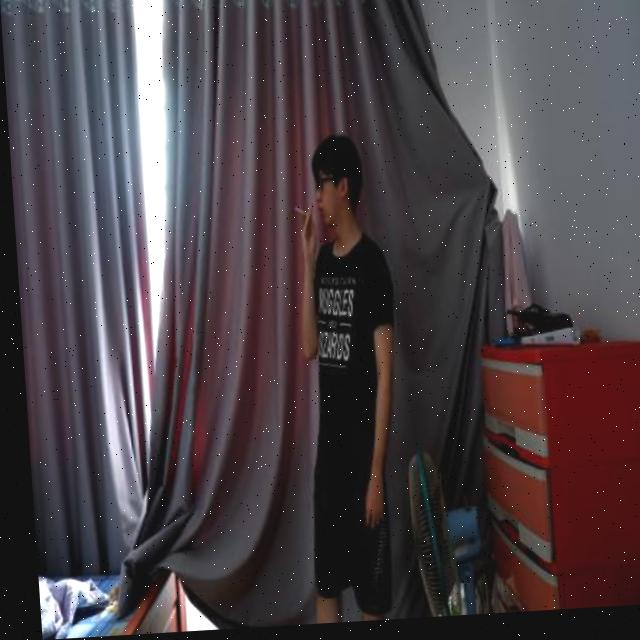cigarette: (291, 209, 305, 220)
